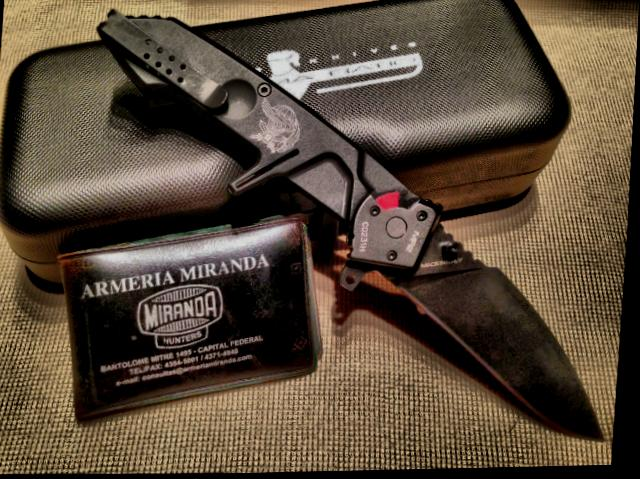knife: (362, 204, 625, 453)
